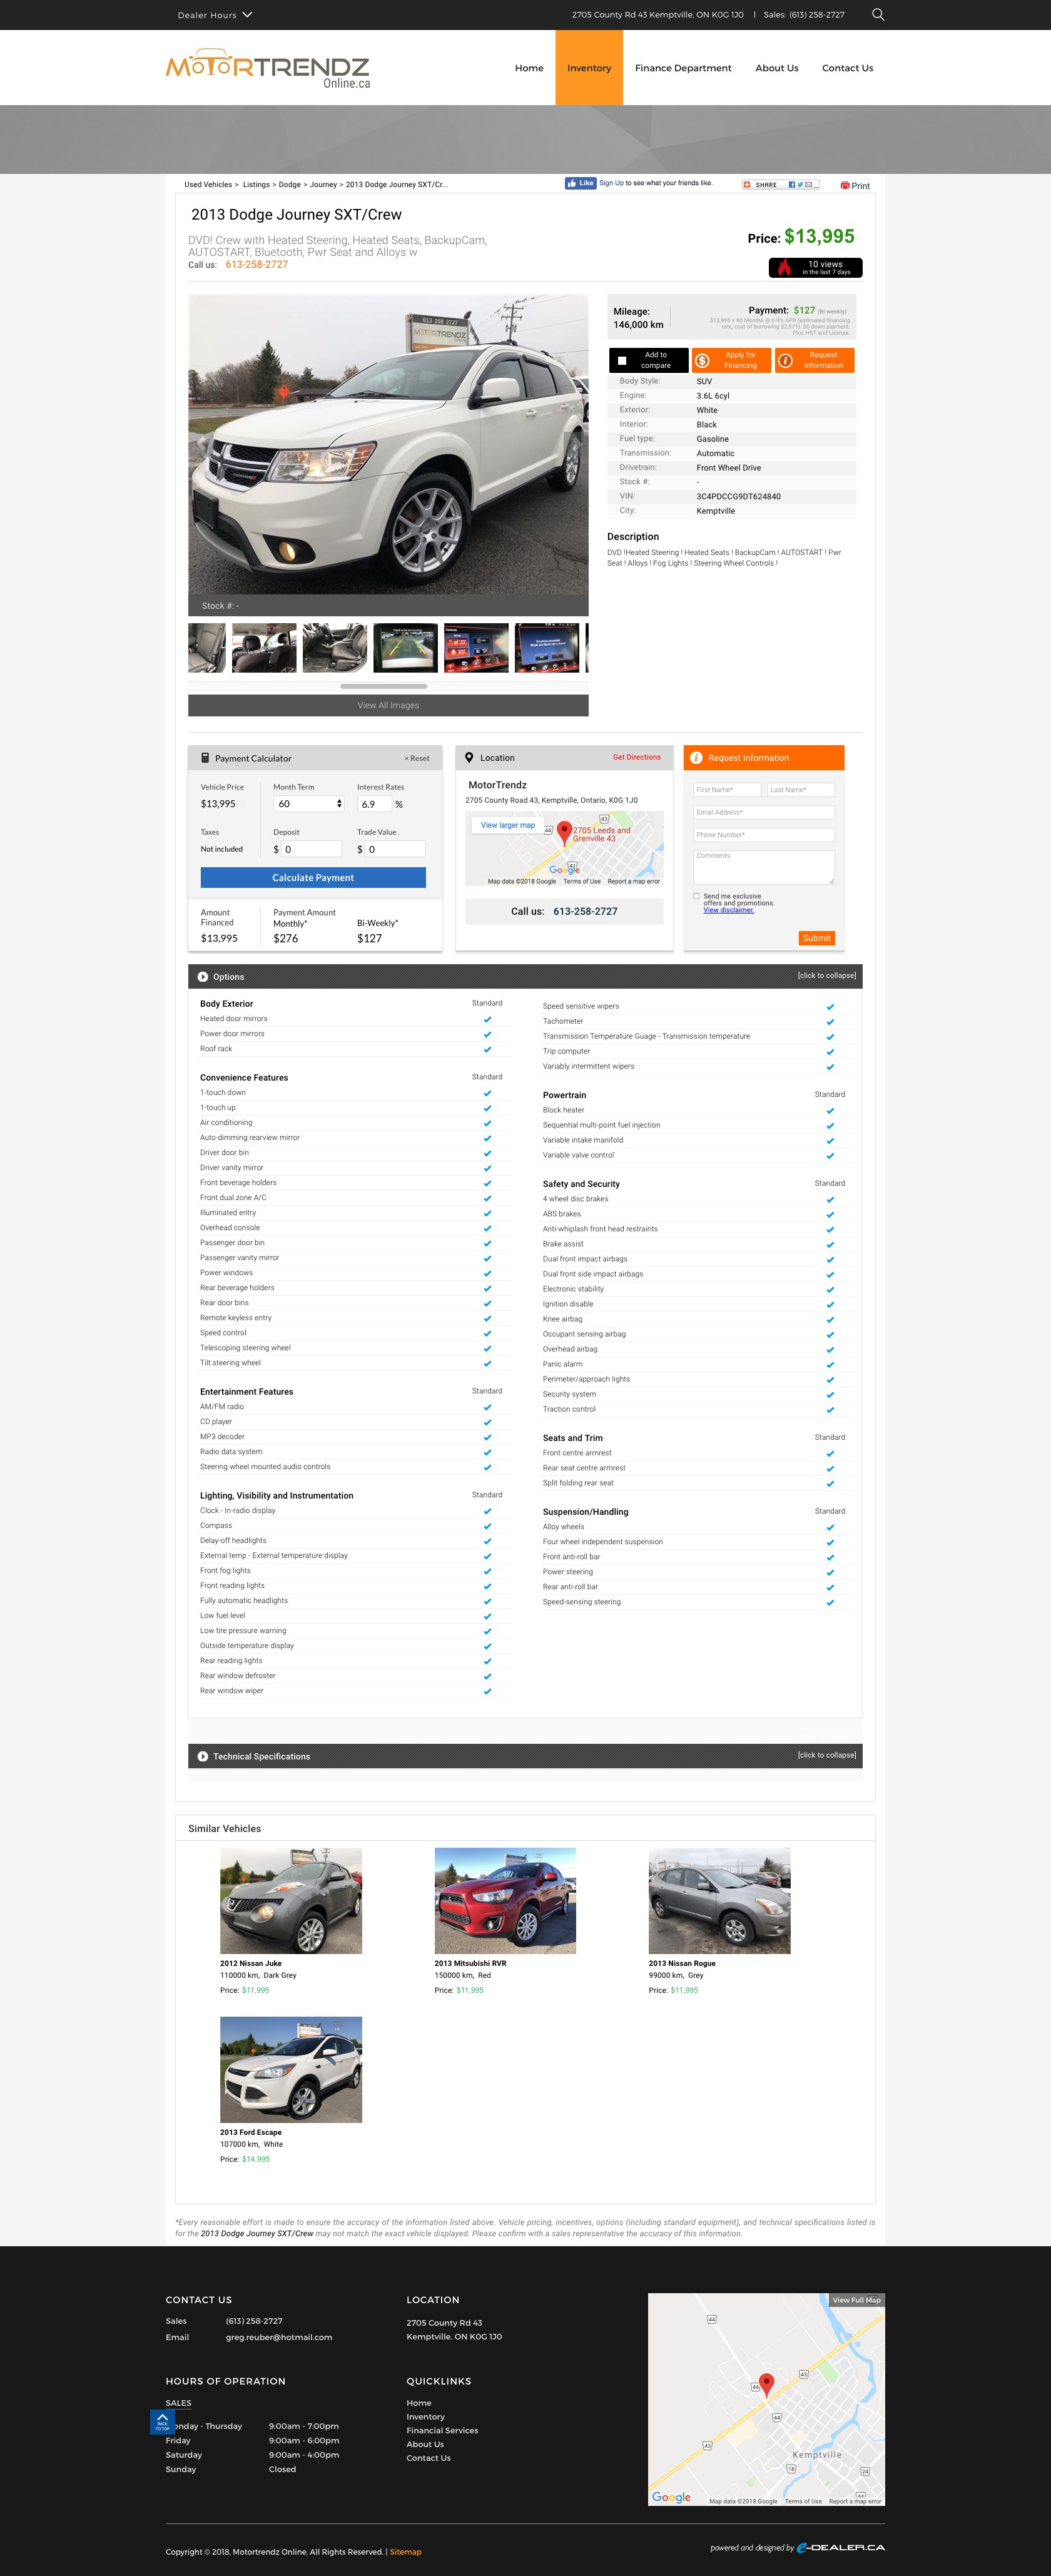car: (571, 437, 585, 453)
